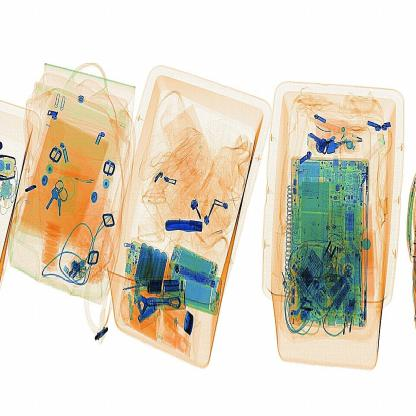knife: (167, 214, 205, 235)
